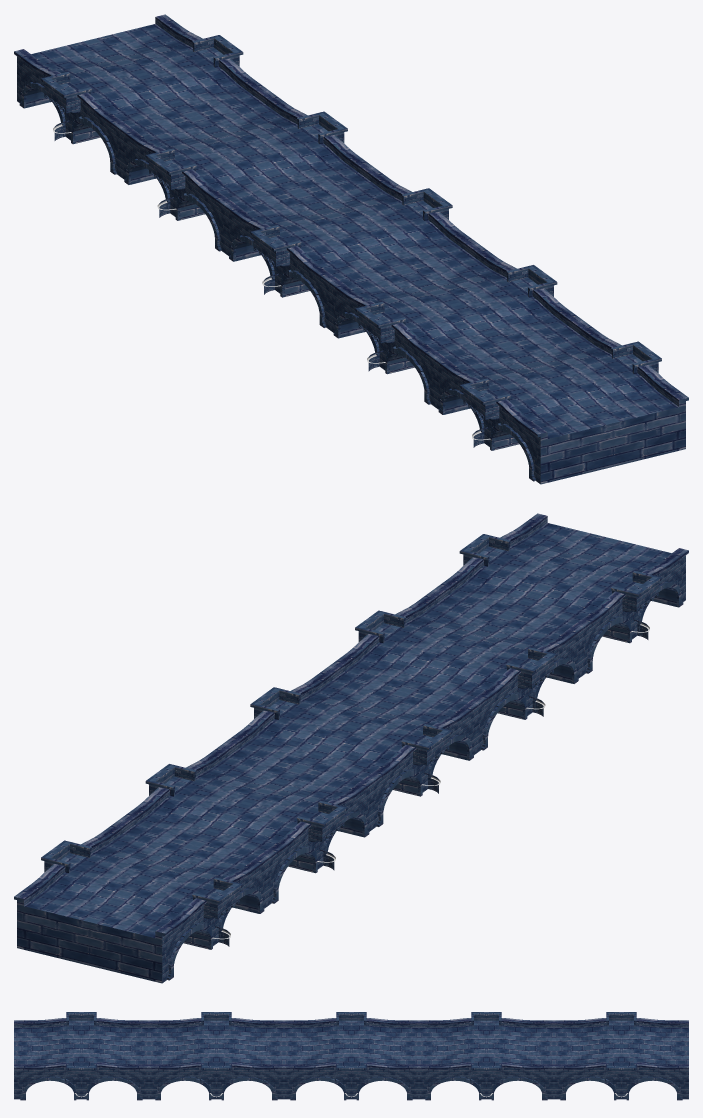
Rendered from FightScene-transformed.glb.
3 views of the same model, one above another, from view 1: azimuth 30°, elevation 25°; view 2: azimuth 150°, elevation 25°; view 3: azimuth 270°, elevation 25° (orthographic). The views are drawn at different scales.
Visible parts, largest first — view 1: main_Bridge (×5), Side_Bridge (×5), Cube.001 (×5); view 2: main_Bridge (×5), Side_Bridge (×5), Cube.001 (×5); view 3: main_Bridge (×5), Side_Bridge (×5), Cube.001 (×5).
Part boxes in pixels (<box>): main_Bridge (×5): <box>14,14,688,484</box>; Side_Bridge (×5): <box>41,35,661,419</box>; Cube.001 (×5): <box>19,82,535,481</box>; main_Bridge (×5): <box>14,513,688,983</box>; Side_Bridge (×5): <box>41,534,661,918</box>; Cube.001 (×5): <box>167,581,683,980</box>; main_Bridge (×5): <box>14,1018,688,1099</box>; Side_Bridge (×5): <box>66,1012,636,1079</box>; Cube.001 (×5): <box>20,1076,682,1100</box>.
Size of what is drawn, in the model's own units: 19.71 by 5.97 by 100.
2 materials, 1 textured.
